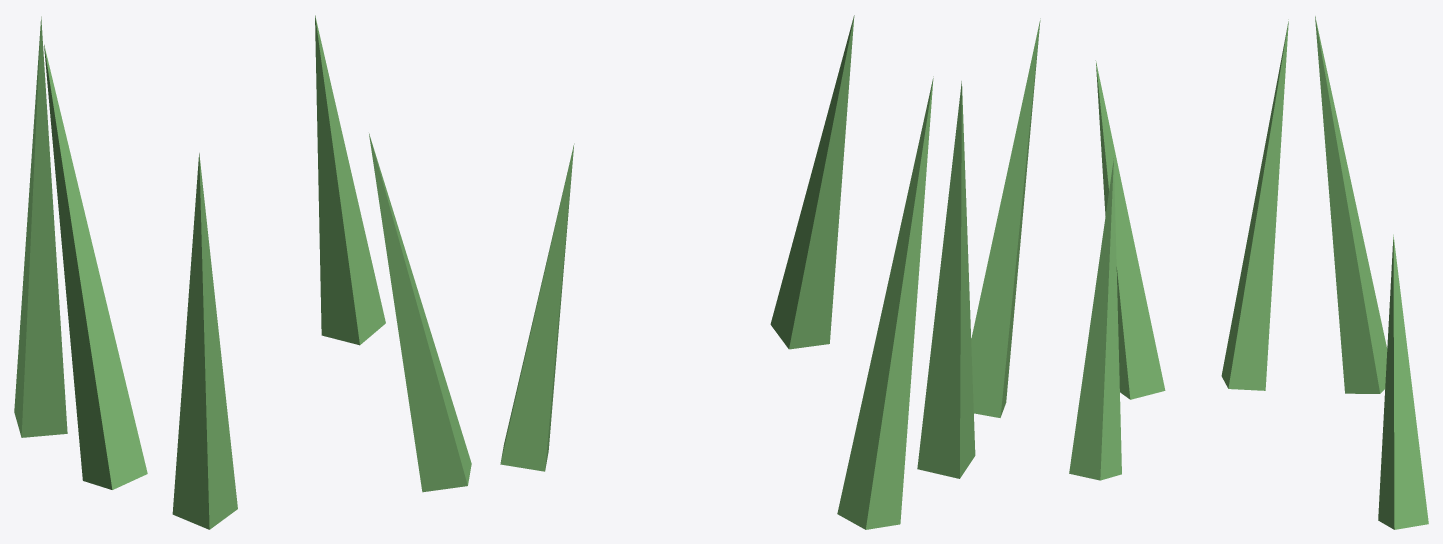
File: greens.glb
The picture shows the model from 3 angles, left to right: view 1: azimuth 30°, elevation 25°; view 2: azimuth 150°, elevation 25°; view 3: azimuth 270°, elevation 25°; orthographic projection. The views are drawn at different scales.
Visible parts, largest first — view 1: Greens.003; view 2: Greens.003; view 3: Greens.003.
Part boxes in pixels (<box>): Greens.003: <box>14,15,471,529</box>; Greens.003: <box>500,15,1040,529</box>; Greens.003: <box>1069,16,1428,529</box>.
Size of the model in its own units: 0.2849 by 0.299 by 0.2671.
